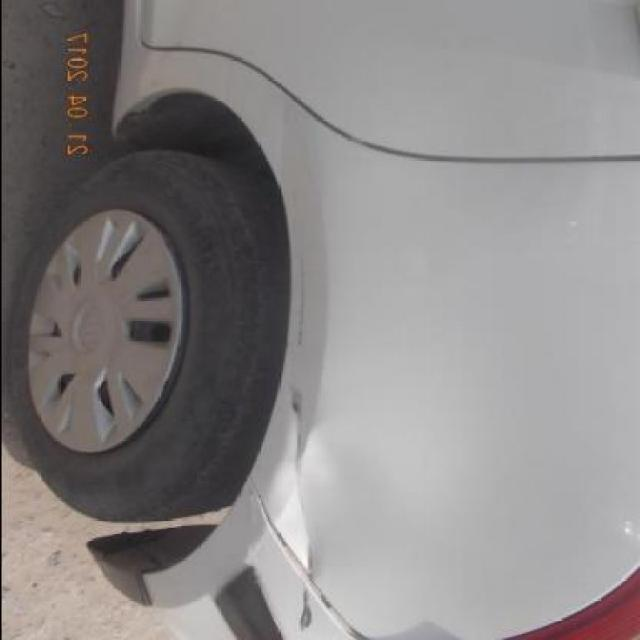damage: (240, 419, 408, 564), (240, 470, 379, 640), (285, 383, 316, 633), (292, 214, 309, 350)
